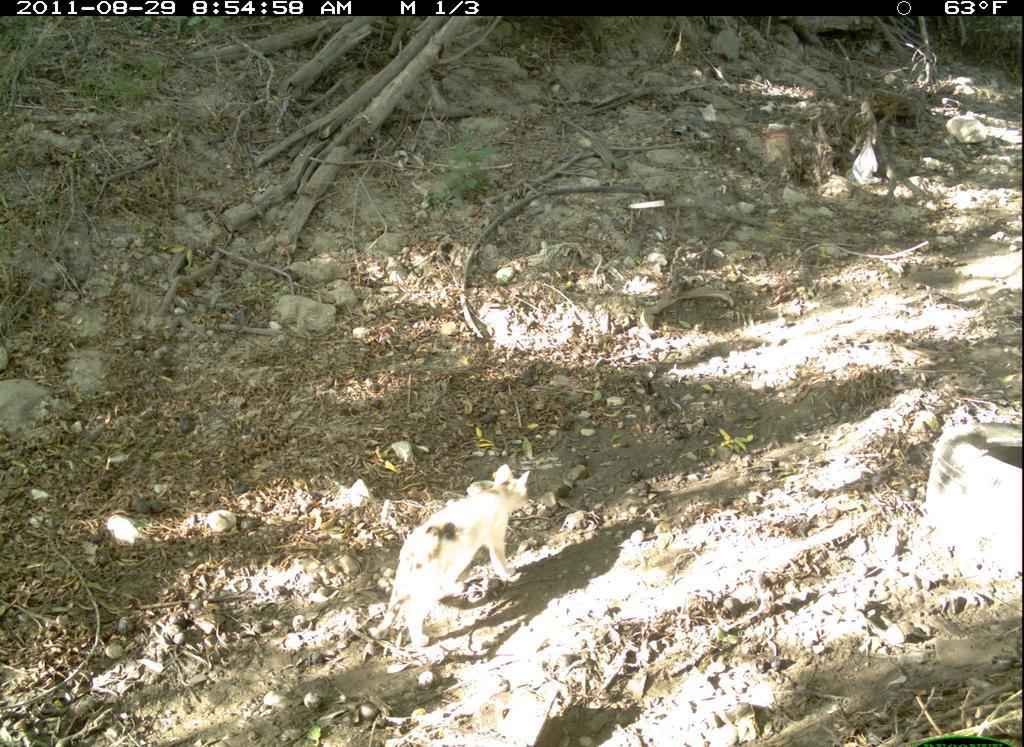cat: (368, 456, 539, 657)
